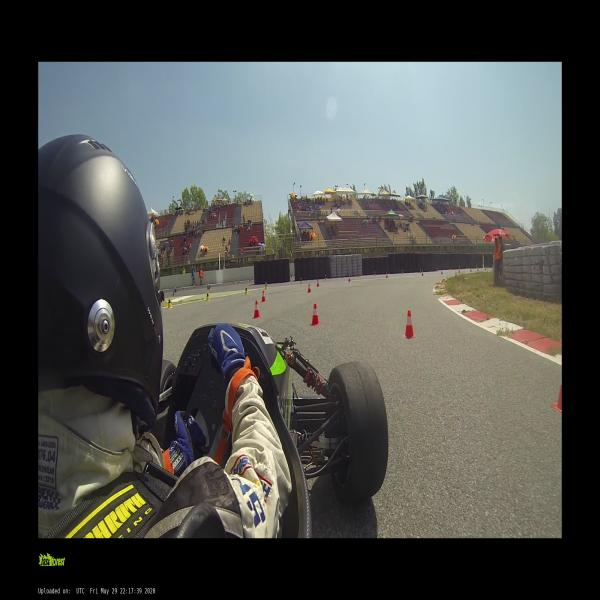orange_cone: (551, 344, 562, 415), (403, 310, 415, 338), (310, 303, 321, 326), (253, 300, 261, 319), (261, 290, 266, 302), (308, 284, 311, 294), (348, 276, 351, 282), (317, 280, 319, 286), (386, 272, 388, 278), (470, 267, 472, 272), (183, 285, 185, 289), (441, 270, 443, 274), (484, 266, 486, 270), (422, 270, 423, 276), (458, 269, 460, 272), (233, 280, 234, 284), (250, 278, 251, 281), (477, 267, 478, 270)
yellow_cone: (168, 297, 172, 308), (206, 291, 210, 301), (245, 286, 248, 295), (265, 282, 267, 290), (325, 274, 327, 280), (238, 280, 240, 284), (374, 272, 376, 276), (450, 266, 452, 270), (301, 278, 302, 284), (358, 272, 359, 278), (420, 268, 421, 273), (210, 285, 211, 289), (402, 270, 403, 274), (466, 266, 468, 268), (476, 265, 477, 268), (486, 265, 487, 268), (438, 268, 438, 272), (460, 266, 460, 270)
